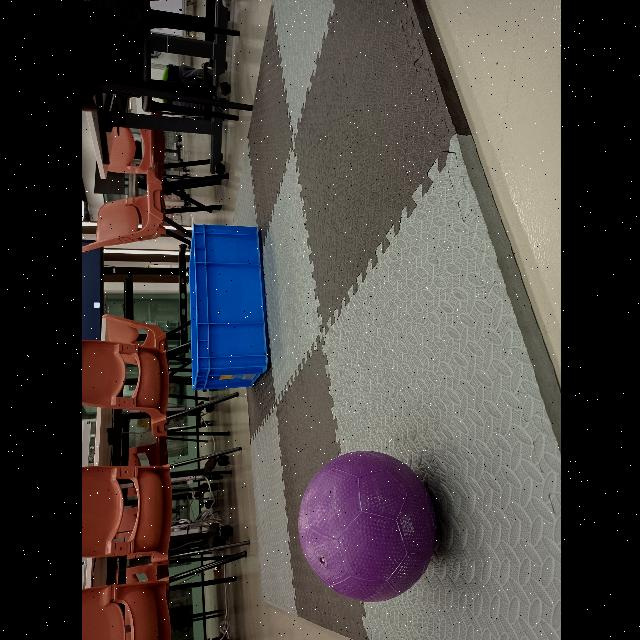P: (292, 450, 438, 602)
